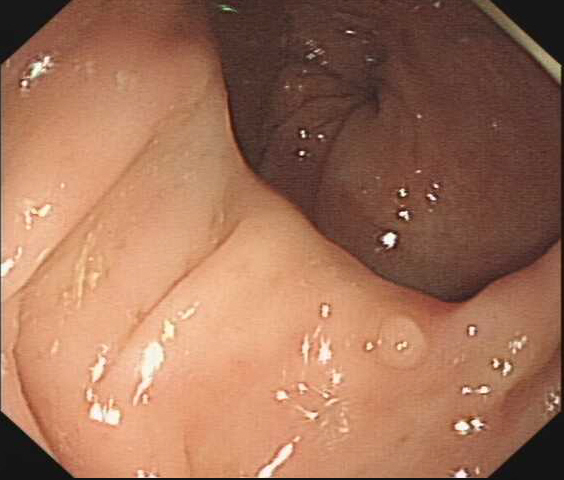adenoma: (373, 314, 429, 369)
